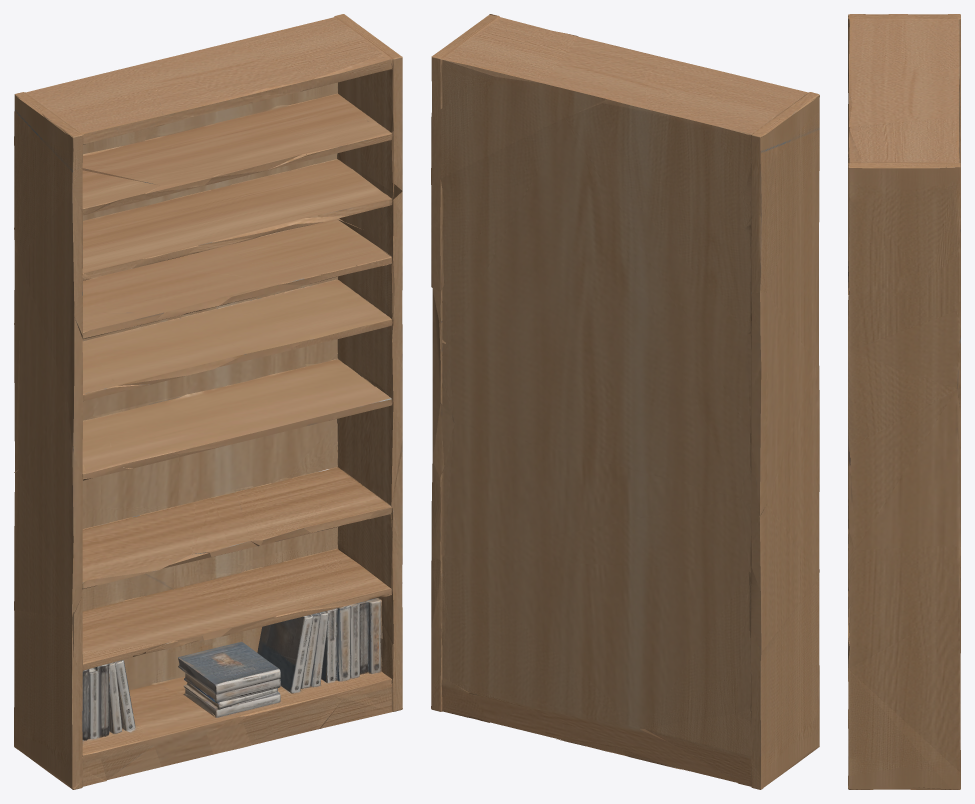
3 renders of one model, left to right at view 1: azimuth 30°, elevation 25°; view 2: azimuth 150°, elevation 25°; view 3: azimuth 270°, elevation 25°, orthographic. The views are drawn at different scales.
Size of the model in its own units: 1.01 by 1.9 by 0.3127.
Materials: 1 (1 with a texture image).
